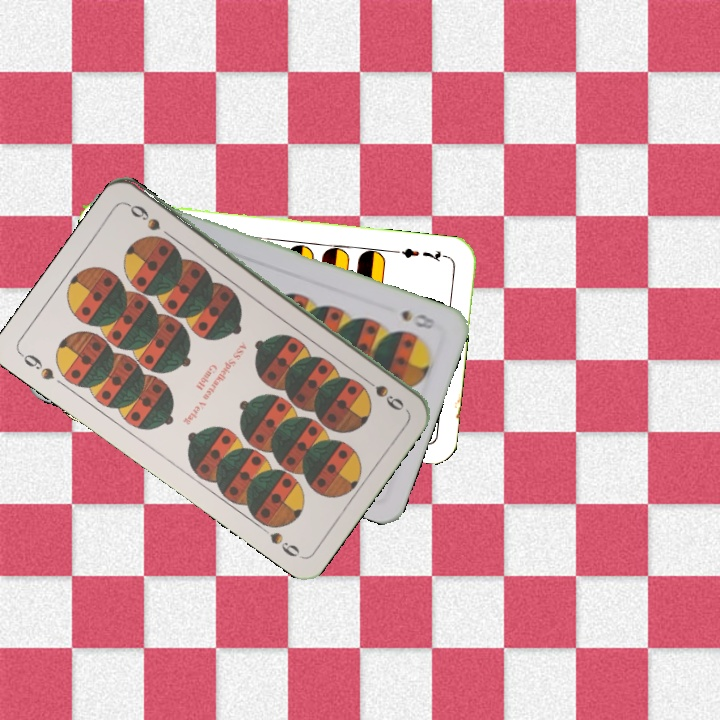E7: (392, 244, 451, 265)
S8: (397, 306, 437, 332)
S9: (357, 372, 407, 413), (16, 348, 57, 383)
